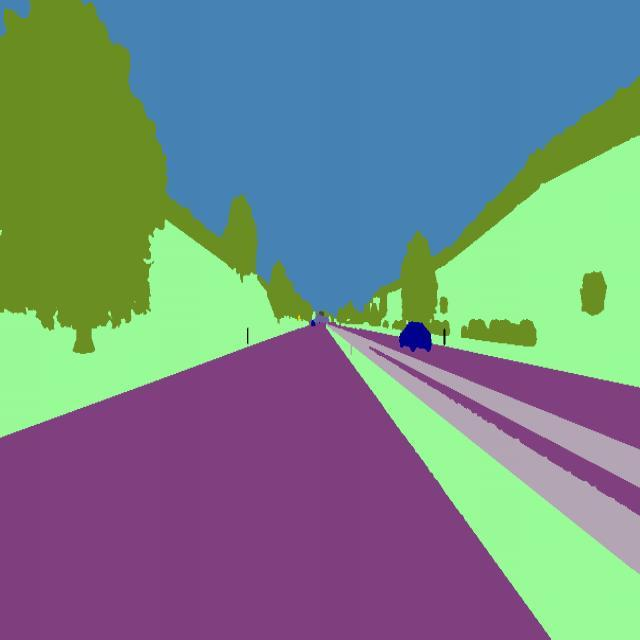safe: (392, 314, 436, 358), (308, 318, 317, 330)
